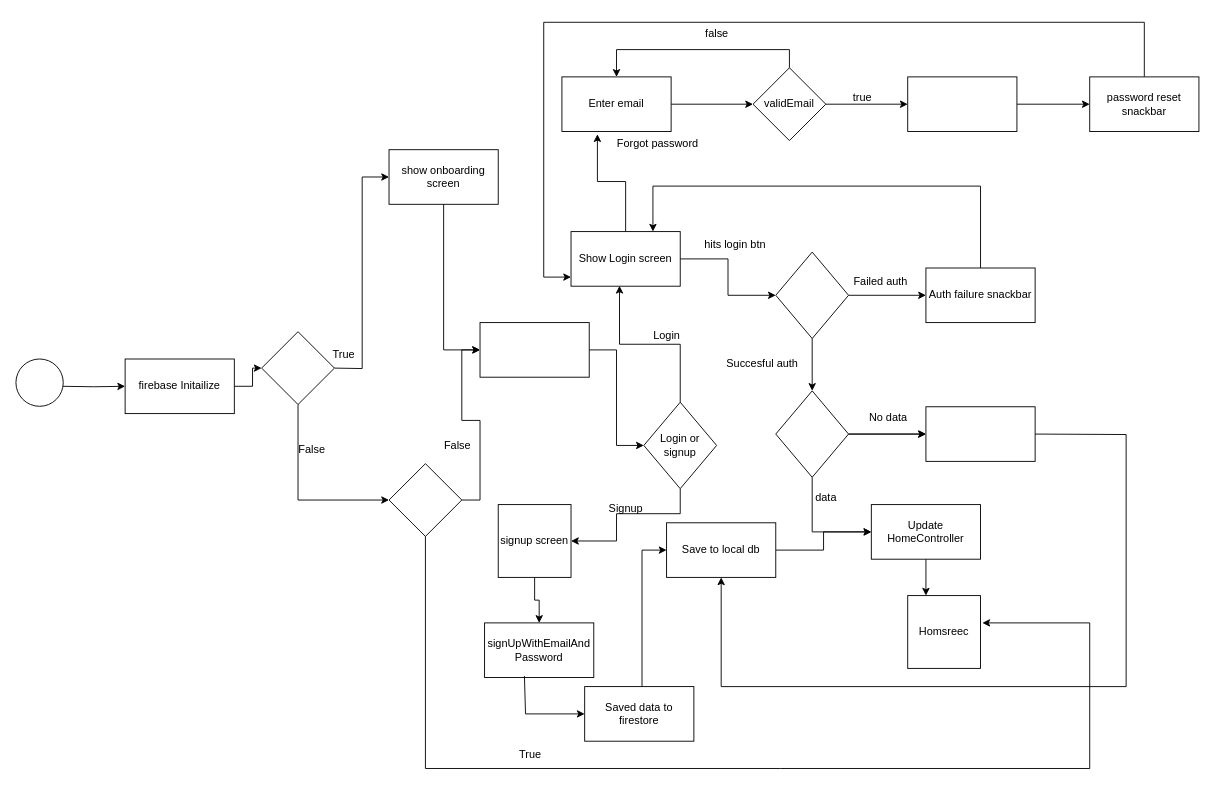
Some shapes in this 1215 by 792 pixel diagram are drawn without their labels. Each missing label, with the centre of its shape:
"Firebase Auth" goes at (x=812, y=295).
"FirstTimer" goes at (x=297, y=367).
"hasSignedIn" goes at (x=425, y=499).
"Read in firestore" goes at (x=980, y=433).
"ReadDb" goes at (x=812, y=433).
"sendOtp to phone number" goes at (x=962, y=103).
"Show welcome" goes at (x=534, y=349).
